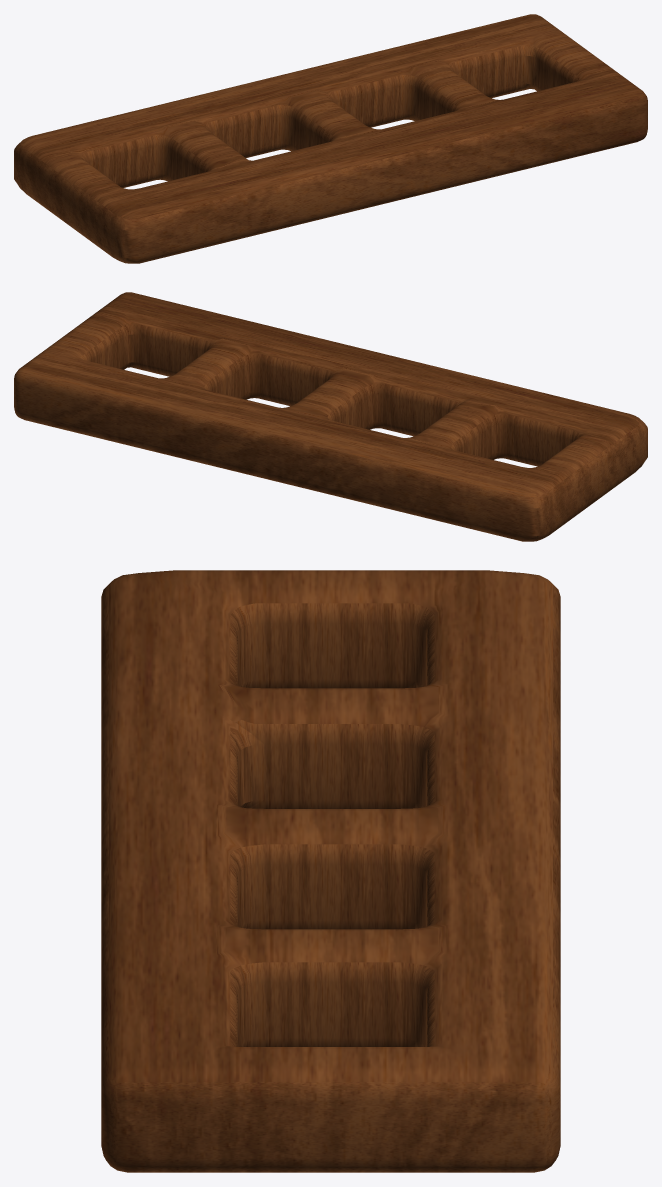
The model's file is Fixer.fbx.
3 renders of one model, top to bottom at view 1: azimuth 30°, elevation 25°; view 2: azimuth 150°, elevation 25°; view 3: azimuth 270°, elevation 25°, orthographic. The views are drawn at different scales.
Visible parts, largest first — view 1: Fixer; view 2: Fixer; view 3: Fixer.
Part boxes in pixels (x1,y1,x2,y2): Fixer: (14,14,647,263); Fixer: (14,292,647,541); Fixer: (101,570,560,1172).
Bounding box in the file's own units: 103 × 9.57 × 38.6.
